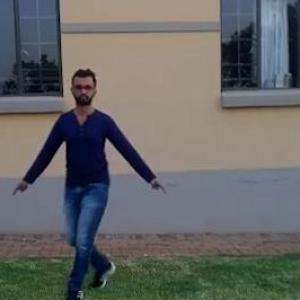land: (17, 80, 154, 271)
